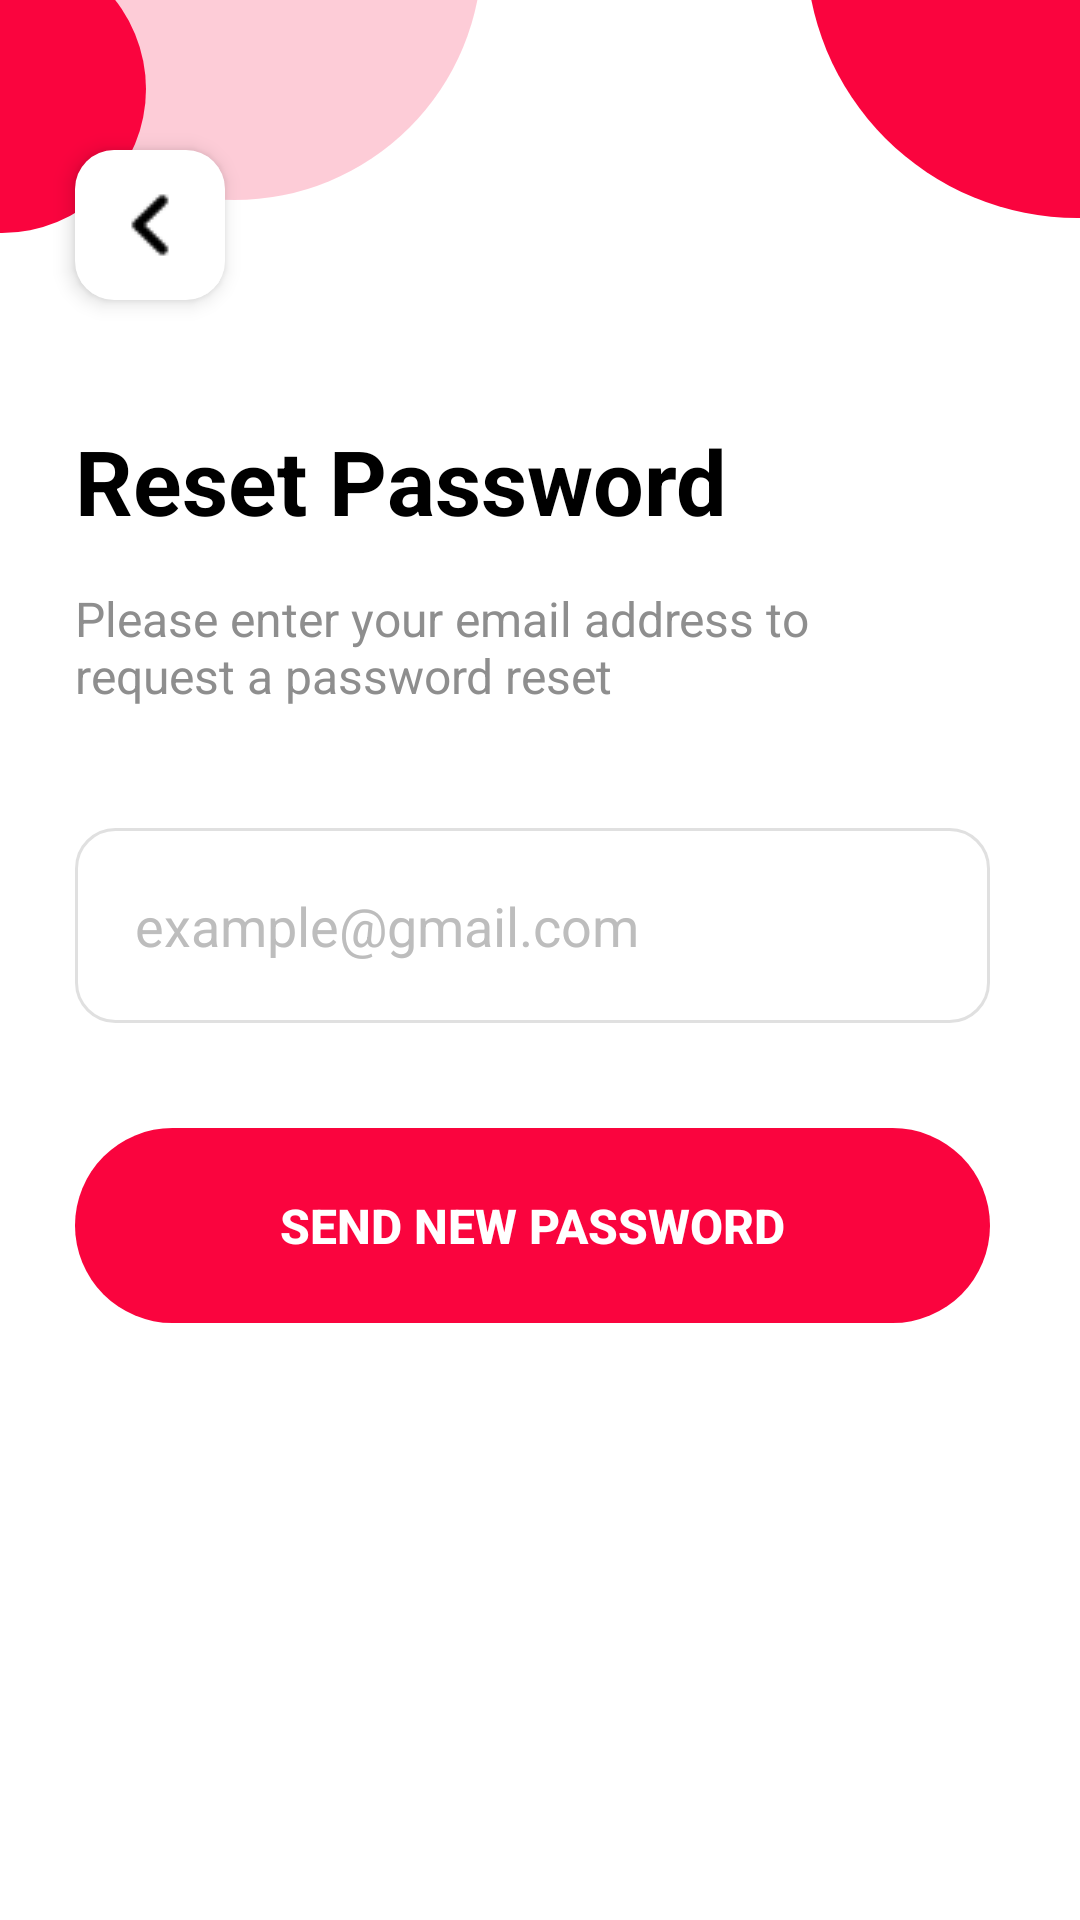

Point at icon controls on the screen. Image size 1080 x 1920, points as point (x, y).
Back: point (150, 225)
